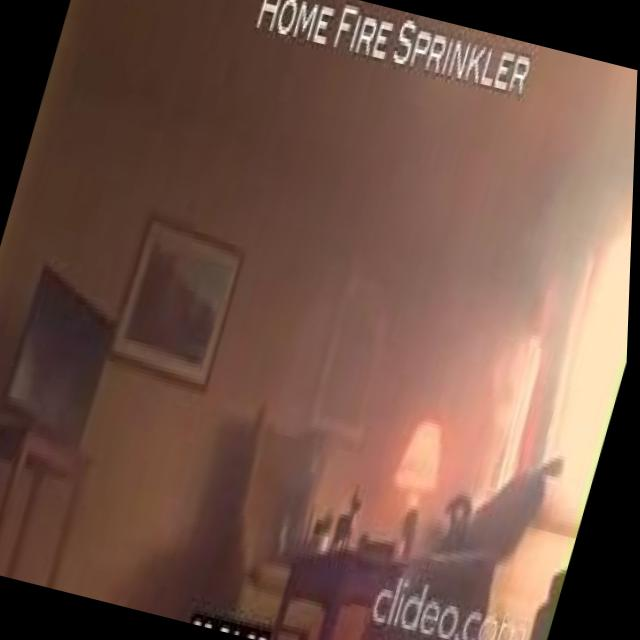fire: (467, 333, 550, 508)
